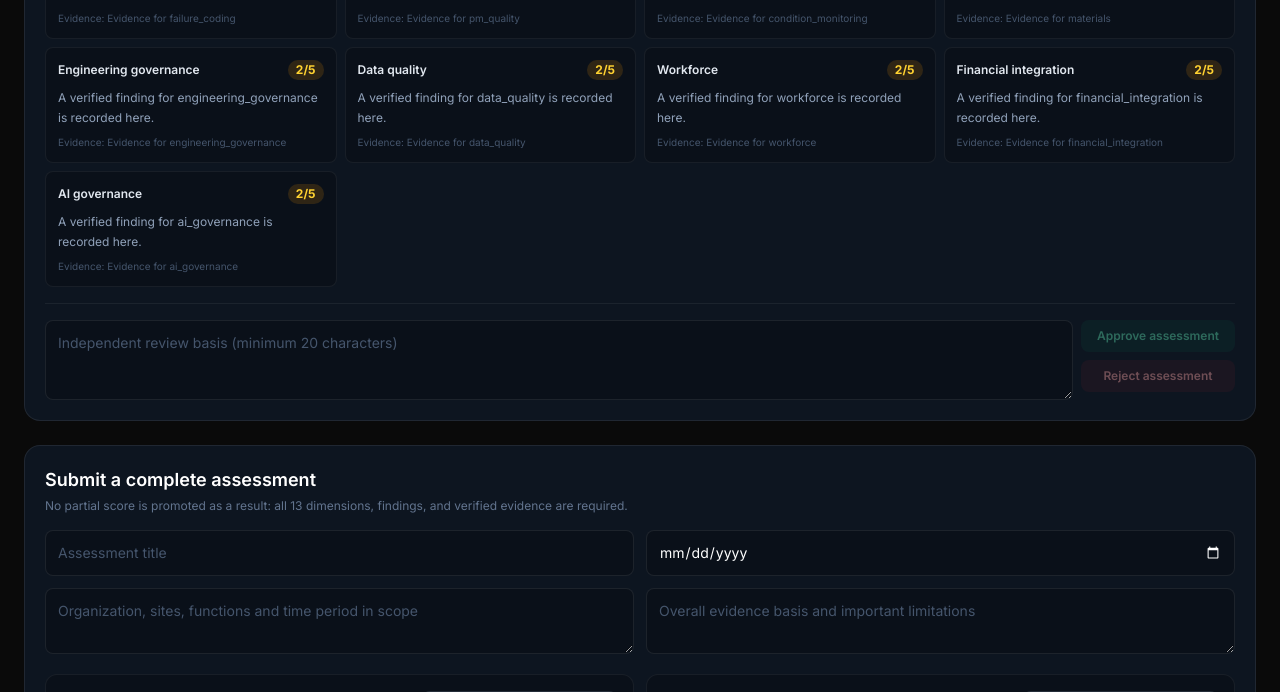
it: OrganizationalMaturityPage › shows submitted evidence and routes review through the governed service
This screenshot has width=1280, height=692.
(page scrolled)
Type "Independent review confirms every score and evidence link." into the text box named "Review note for Annual baseline".
click(559, 360); type("Independent review confirms every score and evidence link.")  # box [45,320,1073,400]
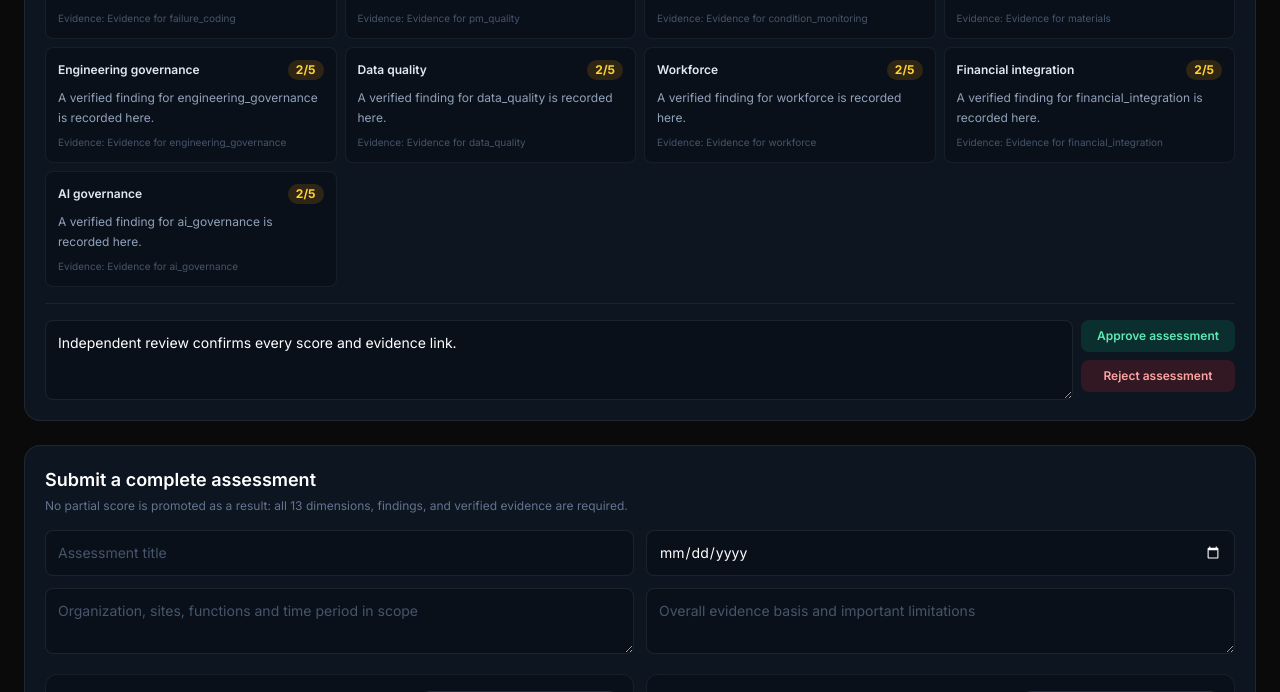
Click the button "Approve assessment".
click(1158, 336)  # box [1081,320,1235,352]
(page scrolled)
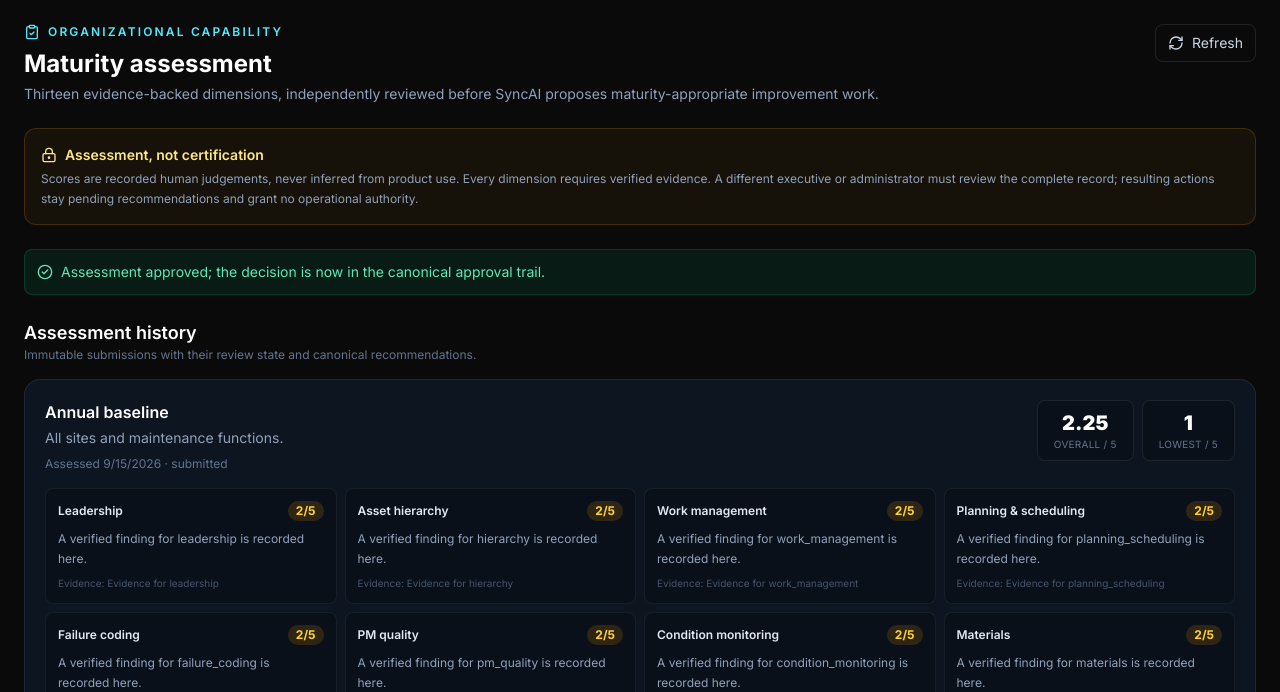
Result: the text "Assessment approved; the decision is now in the canonical approval trail." is shown at [24,249,1256,295]
